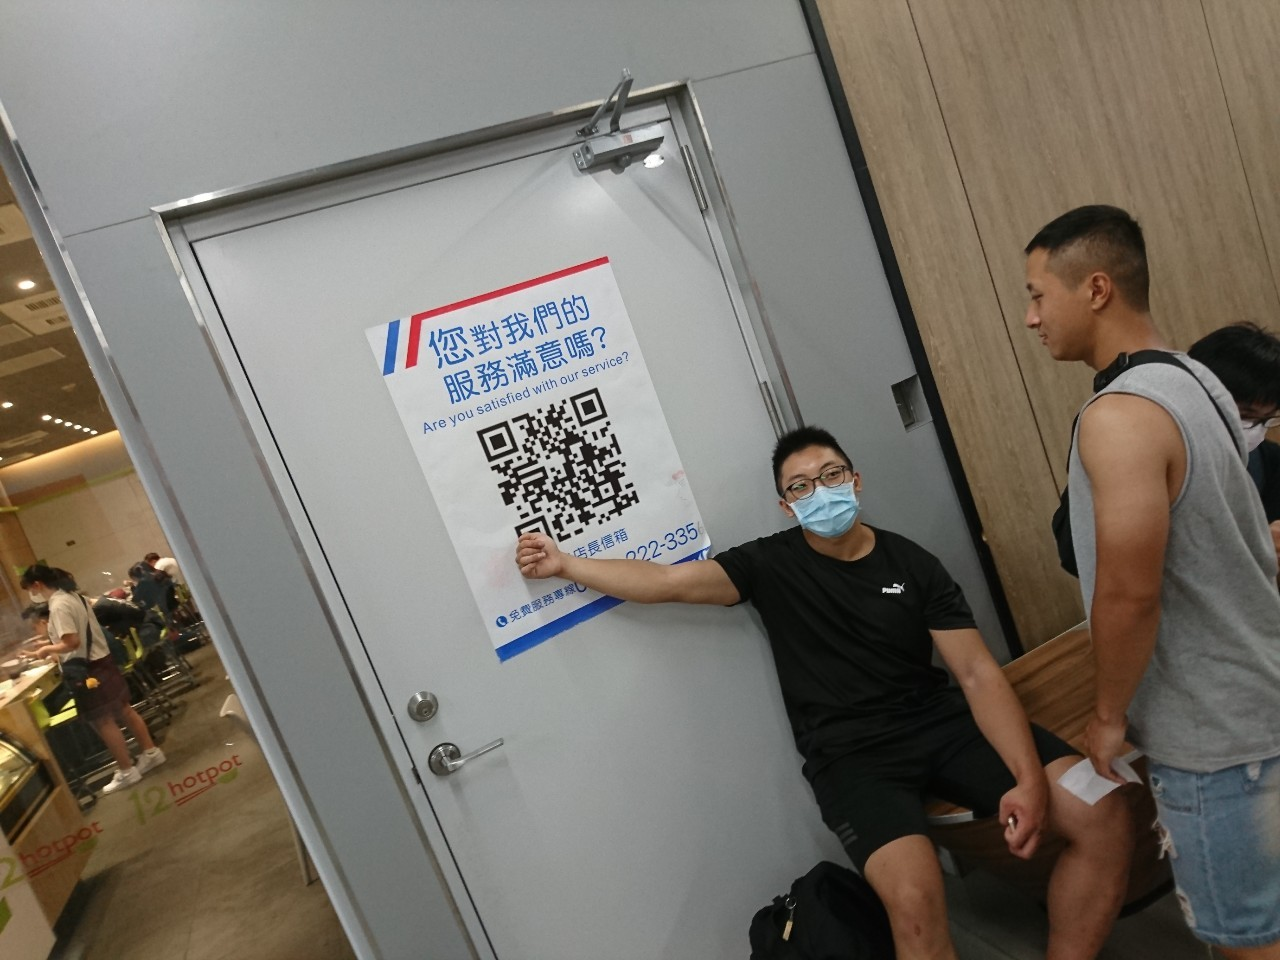QRCode: (475, 385, 644, 547)
